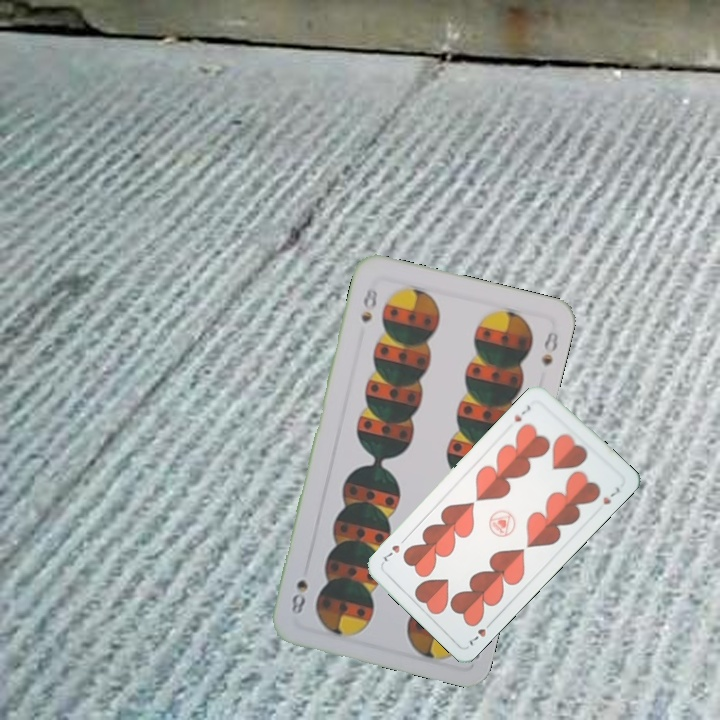H7: (465, 616, 496, 649), (510, 401, 534, 424)
S8: (356, 283, 381, 325)
